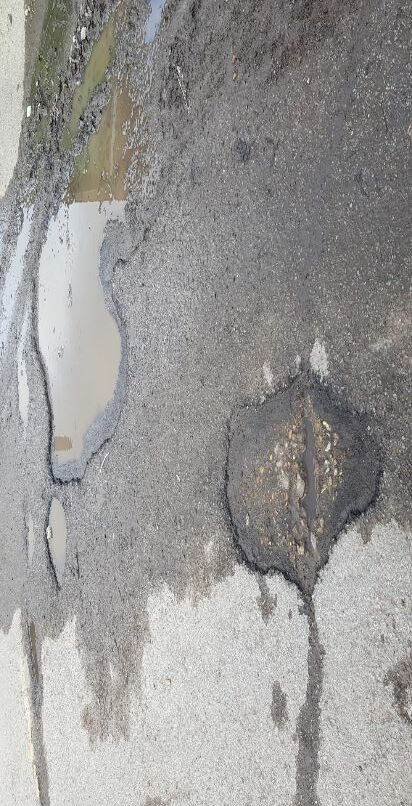pothole: (31, 79, 171, 487), (218, 361, 386, 610), (40, 492, 78, 592)
